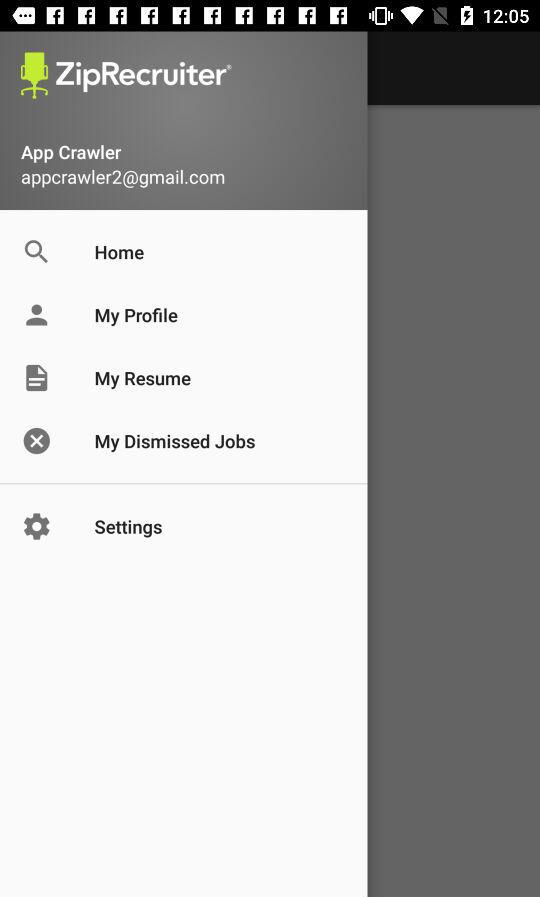Drawer: (1, 33, 368, 897)
Icon: (24, 512, 51, 542), (24, 427, 52, 455), (26, 364, 49, 393), (25, 240, 51, 265), (26, 304, 49, 328)
Image: (20, 52, 50, 102)
Text: (55, 61, 231, 94), (22, 170, 225, 190), (95, 433, 257, 454), (96, 371, 193, 391), (21, 145, 123, 164), (95, 307, 180, 328), (95, 519, 164, 539), (95, 245, 146, 261)
UpperTaskBar: (1, 1, 540, 33)
